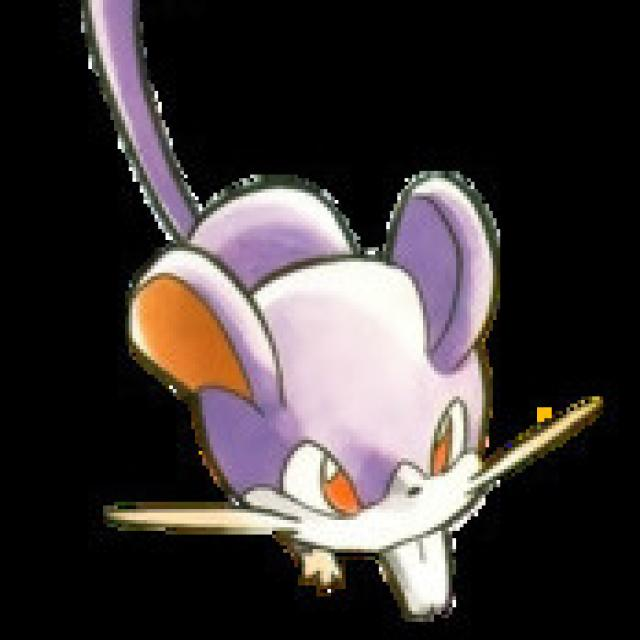Rattata: (101, 137, 519, 617)
